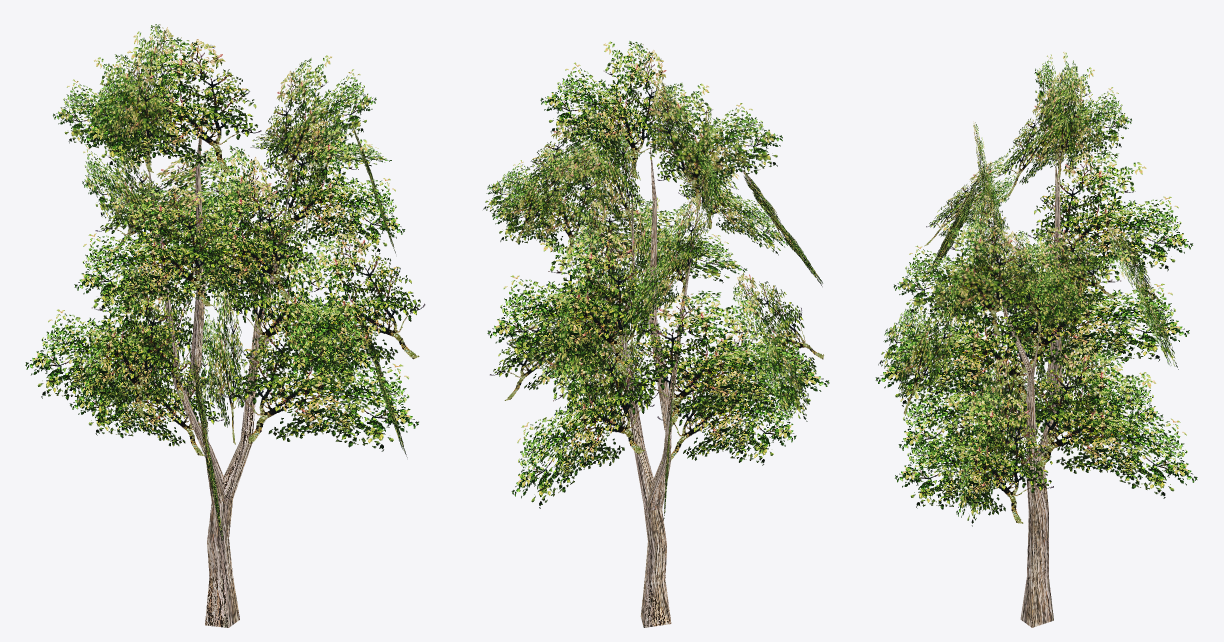
Rendered from stage-niag-p2-410.glb.
3 views of the same model, side by side, from view 1: azimuth 30°, elevation 25°; view 2: azimuth 150°, elevation 25°; view 3: azimuth 270°, elevation 25° (orthographic). The views are drawn at different scales.
Size of the model in its own units: 17.03 by 27.64 by 15.12.
Materials: 2 (2 with a texture image).
